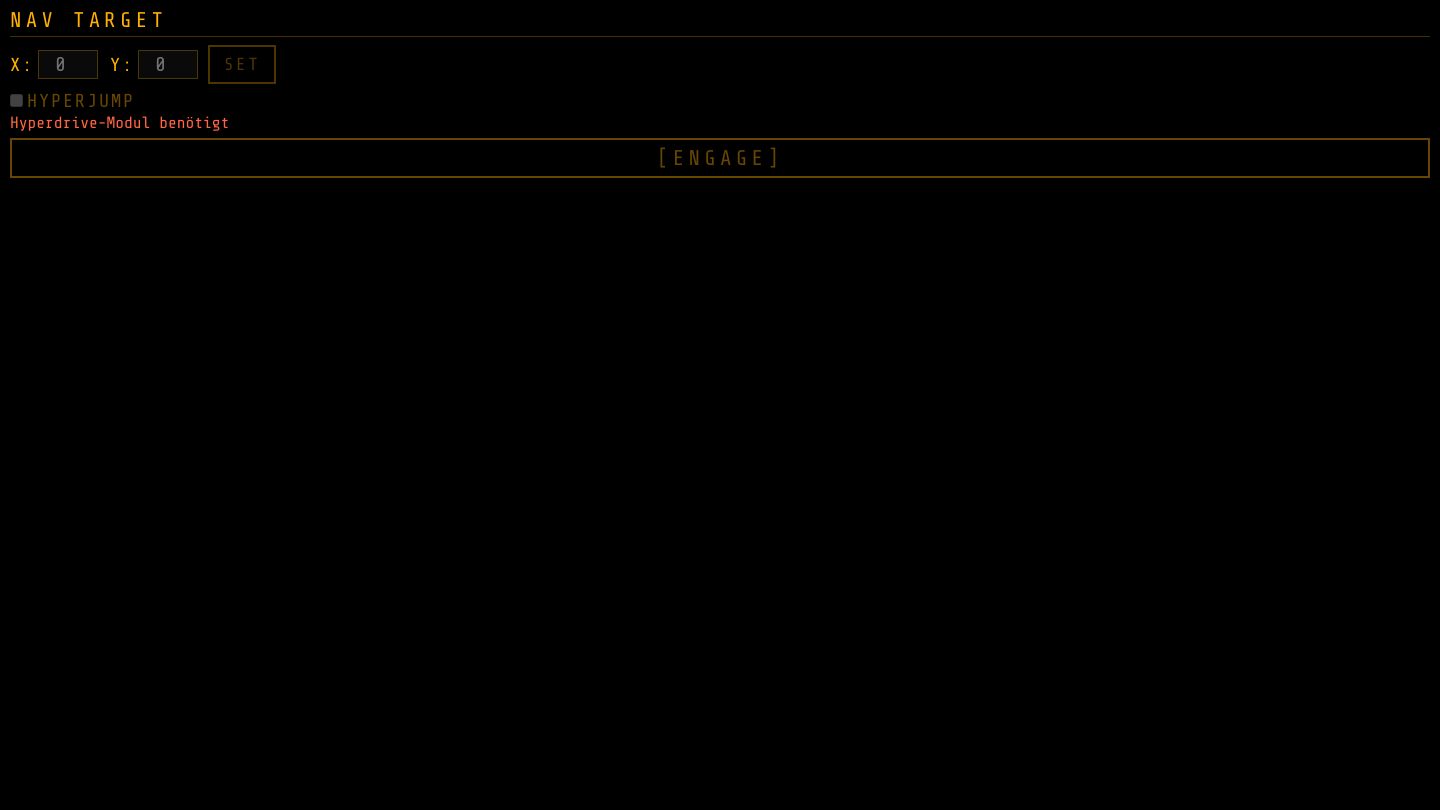
Scenario: NavTargetPanel › enables ENGAGE when target is valid and discovered
Type "5" into the number field named "Target X" at (68, 64), box [38, 50, 98, 79]
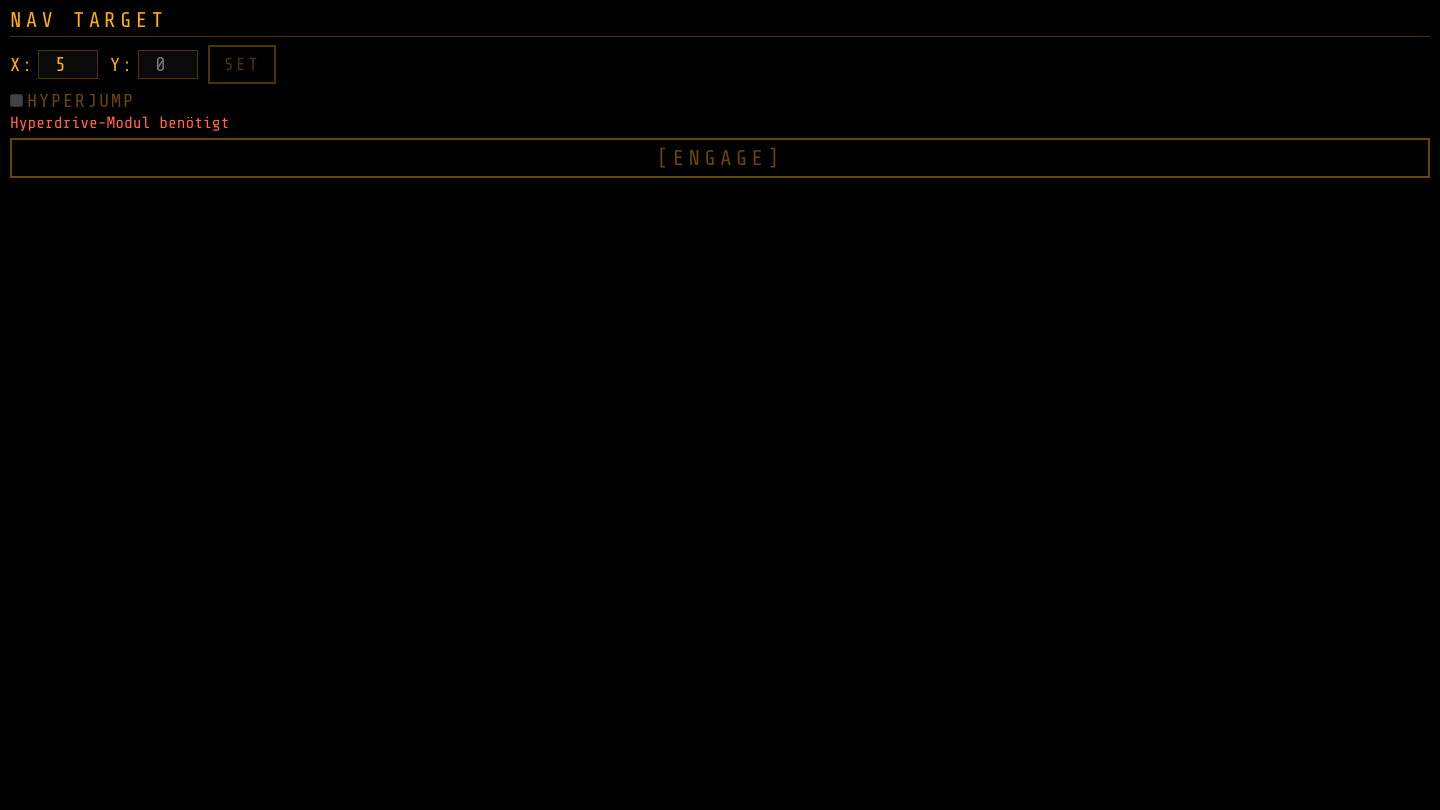
Type "5" into the number field named "Target Y" at (168, 64), box [138, 50, 198, 79]
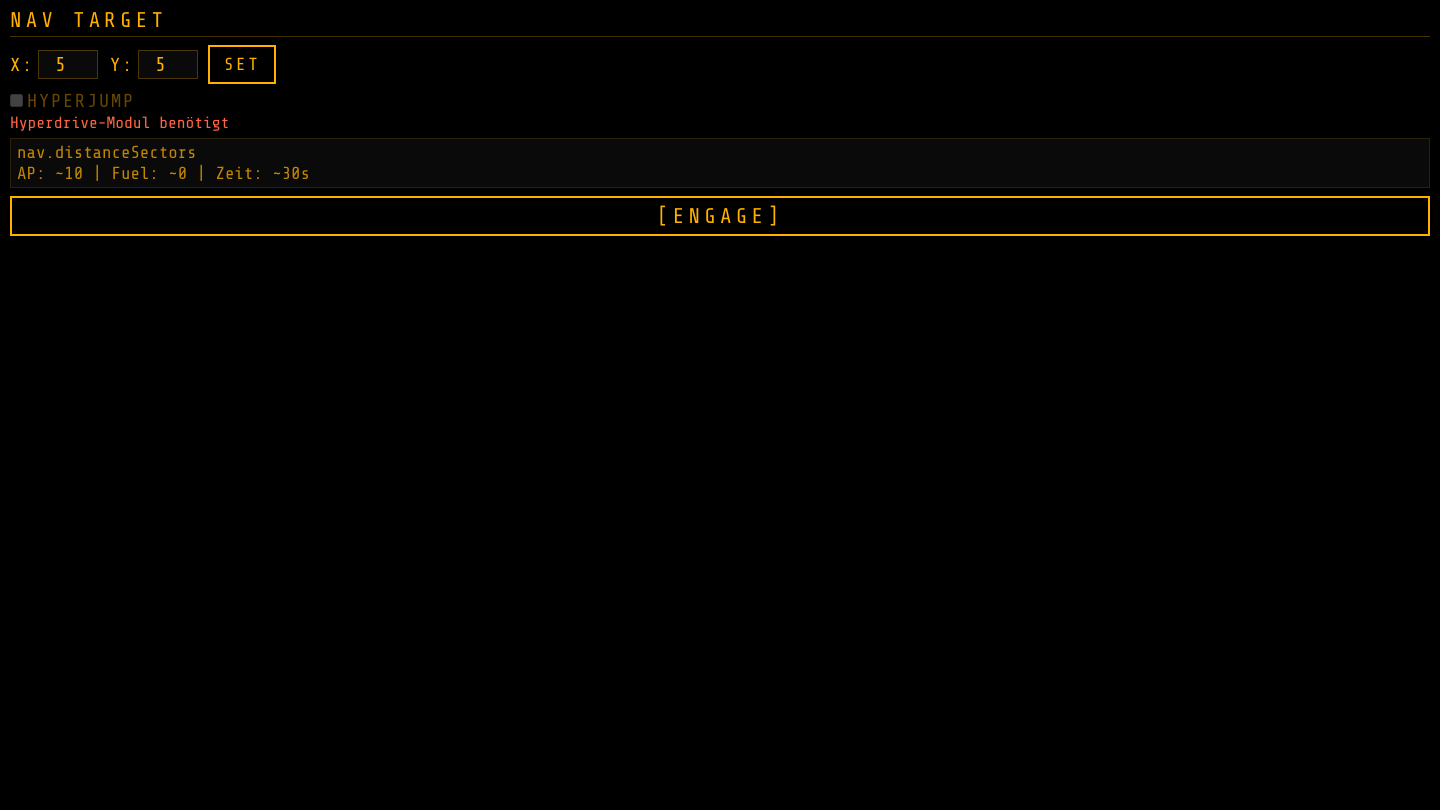
Check: the button "[ENGAGE]" is enabled, box [10, 196, 1430, 236]
